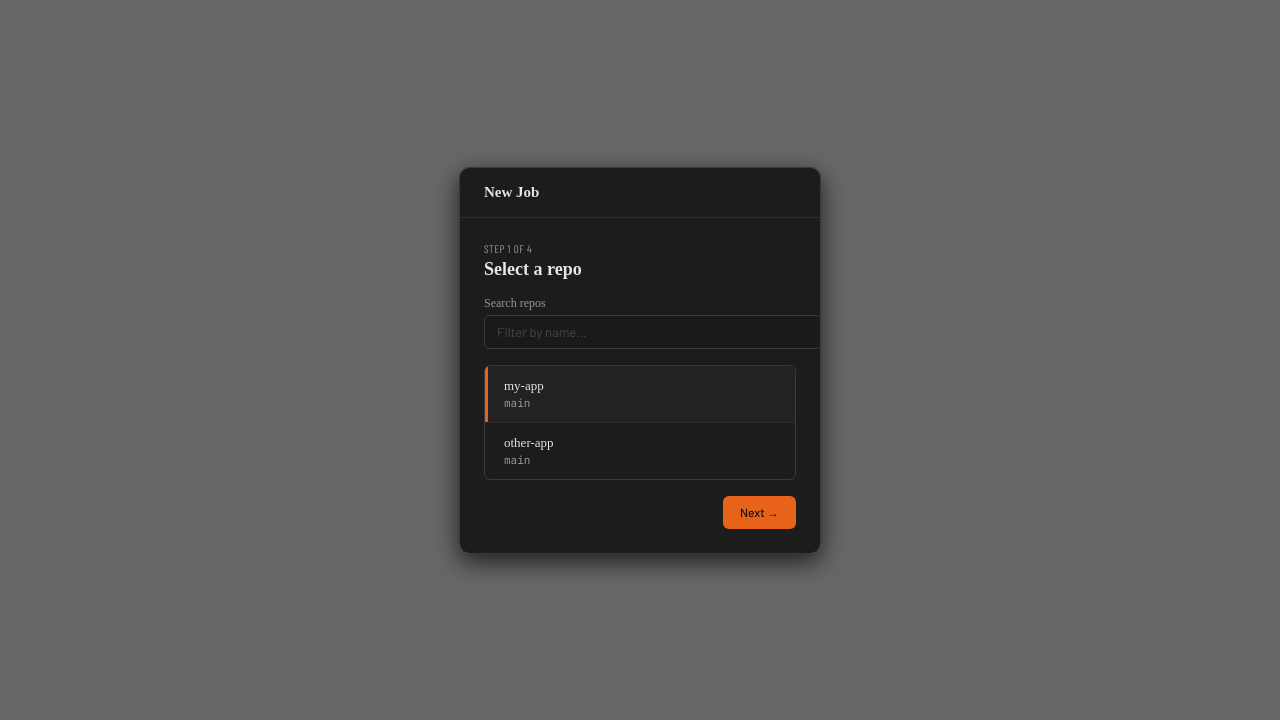
Test case: JobCreation wizard › Step 1 — Repo select › filters repos by name
Expected: the text "my-app" is shown, [504,378,544,392]
Type "other" into the field labelled "Search repos". click: (653, 332)
box: [484,314,822,348]
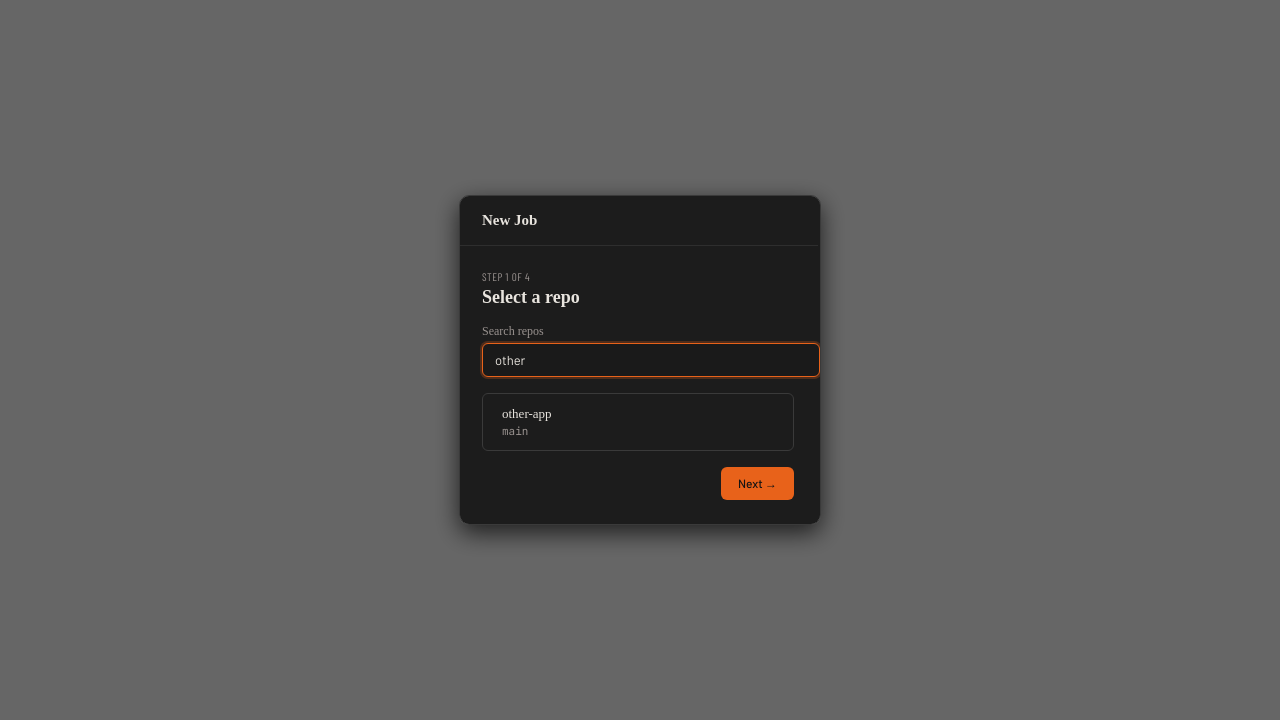
Expected: the text "other-app" is shown, [502,406,552,421]
Expected: the option "my-app" is gone
